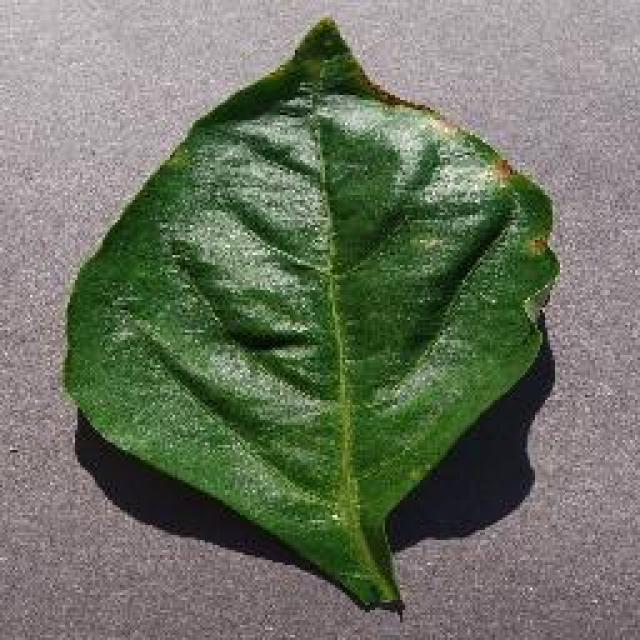Chilli_Bacterial_Spot: (58, 13, 562, 615), (518, 290, 550, 328), (407, 228, 445, 258), (488, 155, 518, 187), (520, 232, 552, 260)
